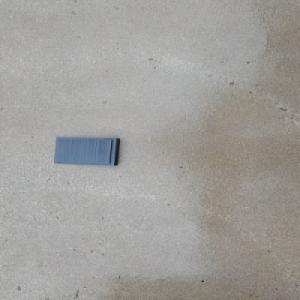PlasticPart: (52, 136, 121, 165)
